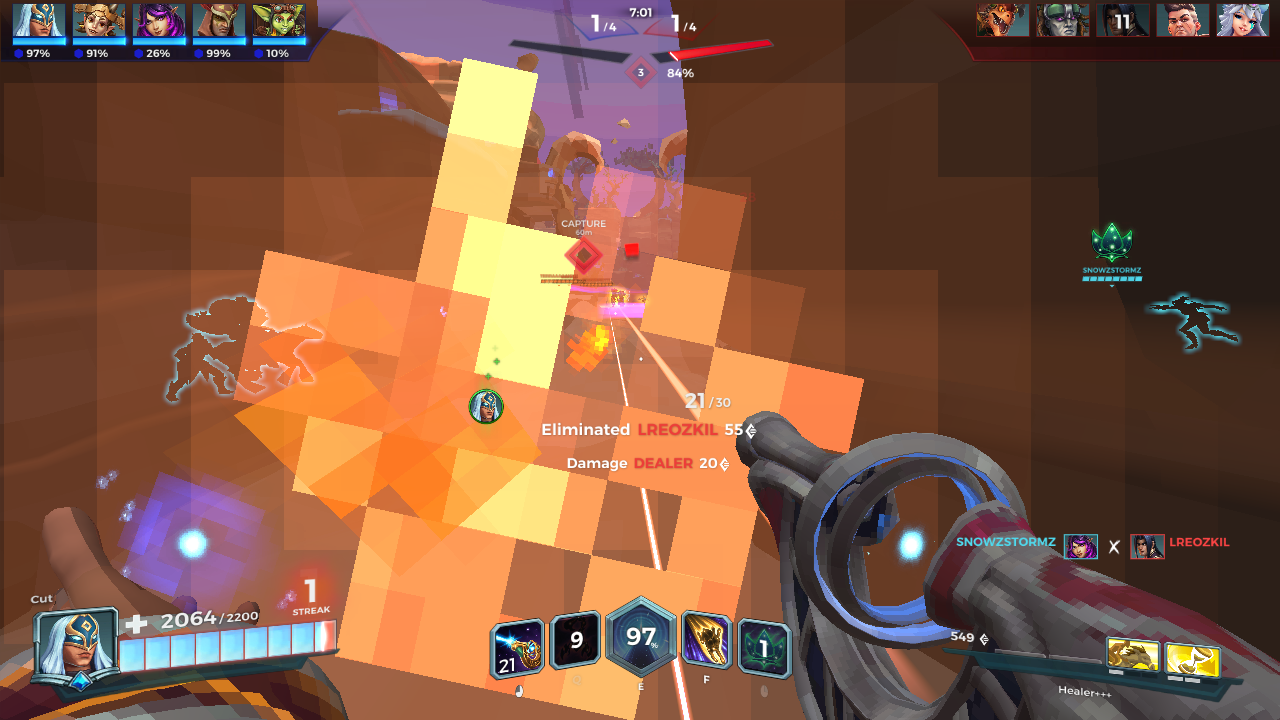model: (609, 287, 628, 308)
